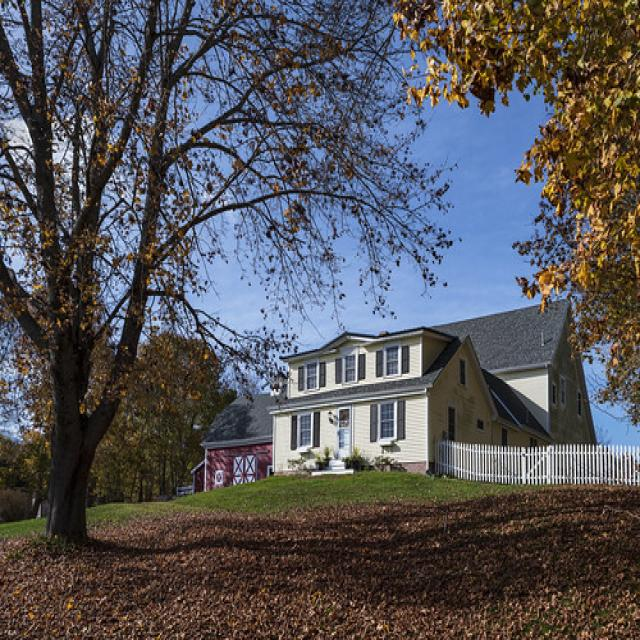Normal_building: (188, 286, 597, 489)
